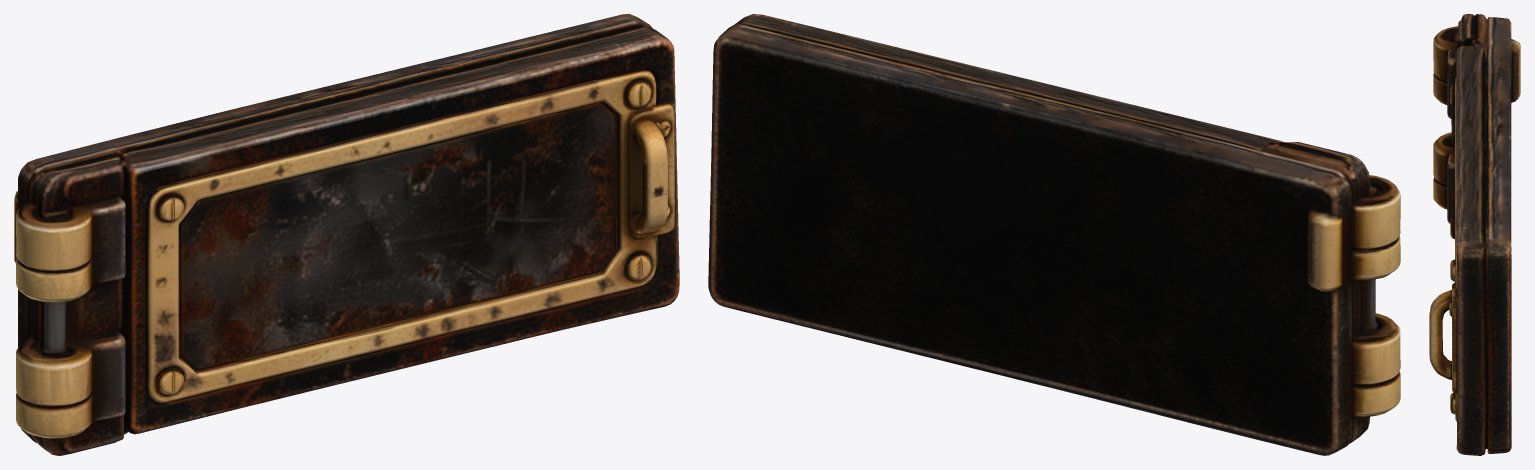
File: door.glb
The picture shows the model from 3 angles, left to right: view 1: azimuth 30°, elevation 25°; view 2: azimuth 150°, elevation 25°; view 3: azimuth 270°, elevation 25°; orthographic projection. The views are drawn at different scales.
Visible parts, largest first — view 1: Mesh_0; view 2: Mesh_0; view 3: Mesh_0.
Boxes of the visible parts, x1,y1,x2,y2 form: Mesh_0: (14, 14, 679, 455); Mesh_0: (708, 14, 1400, 455); Mesh_0: (1429, 14, 1520, 455).
Bounding box in the file's own units: 1.13 × 0.4617 × 0.1765.
1 material, 1 textured.
